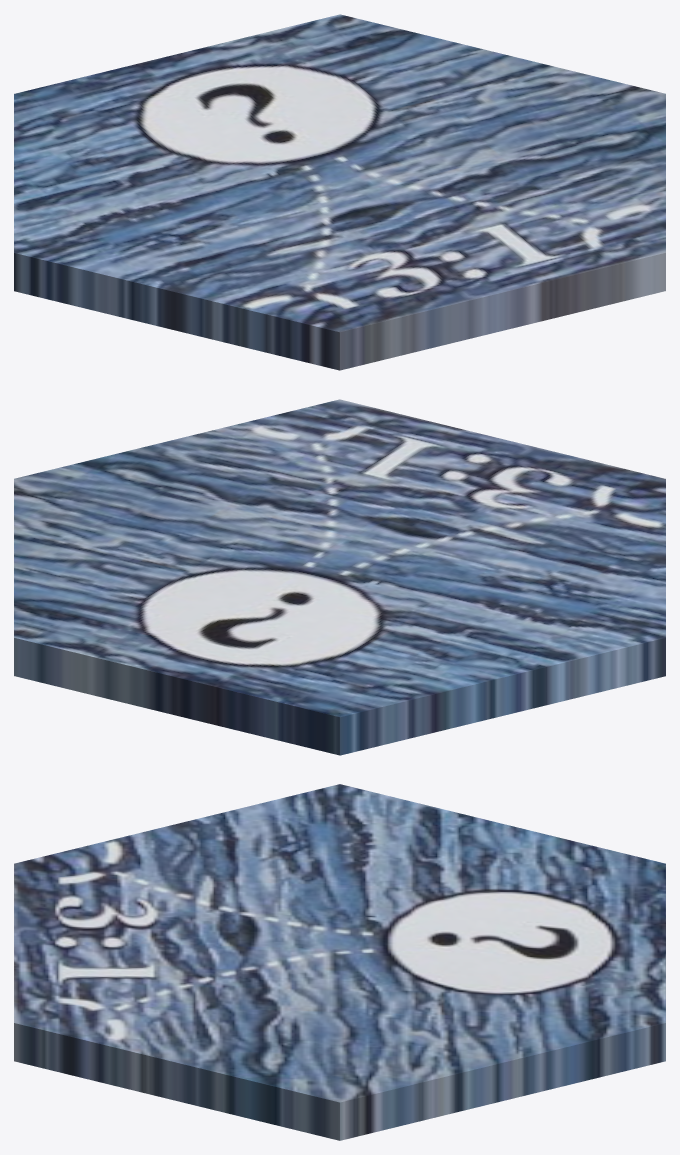
The model's file is 3for1.glb.
The picture shows the model from 3 angles, top to bottom: view 1: azimuth 30°, elevation 25°; view 2: azimuth 150°, elevation 25°; view 3: azimuth 270°, elevation 25°; orthographic projection.
Parts seen in each view (by area): view 1: 3for1; view 2: 3for1; view 3: 3for1.
Boxes of the visible parts, <box> form: 3for1: <box>14,14,665,370</box>; 3for1: <box>14,399,665,755</box>; 3for1: <box>14,784,665,1140</box>.
Bounding box in the file's own units: 0.089 × 0.005 × 0.077.
Materials: 1 (1 with a texture image).
